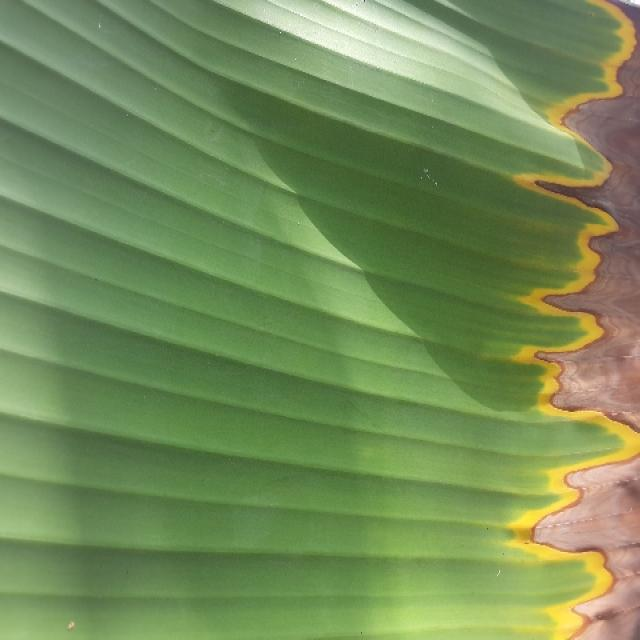Cordana: (406, 0, 640, 640)
